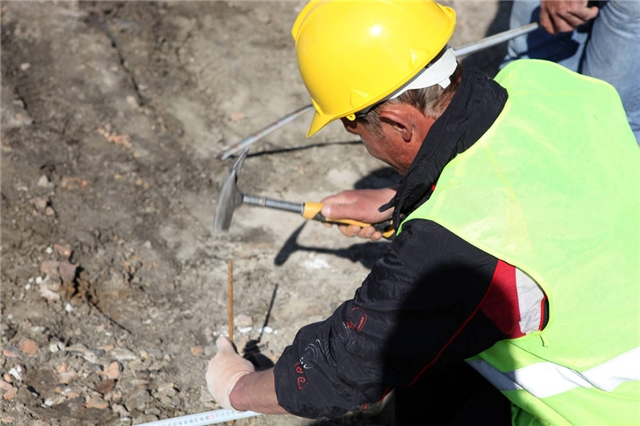gloves: (205, 334, 255, 412)
hard-hat: (291, 0, 457, 138)
person: (204, 1, 640, 426)
vest: (270, 58, 638, 424)
